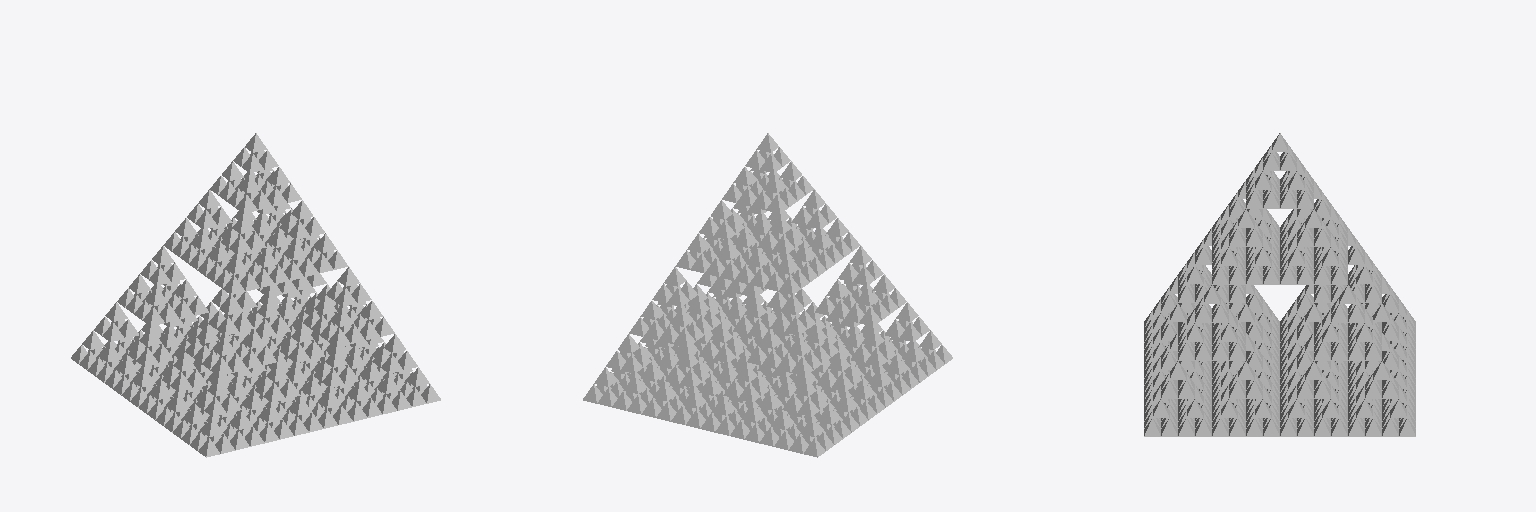
File: sierpinski_fractal.obj
The picture shows the model from 3 angles: view 1: azimuth 30°, elevation 25°; view 2: azimuth 150°, elevation 25°; view 3: azimuth 270°, elevation 25°; orthographic projection.
Visible parts, largest first — view 1: SierpinskiTetrahedron.030_SierpinskiTetrahedron.033, SierpinskiTetrahedron.029_SierpinskiTetrahedron.032, SierpinskiTetrahedron.062_SierpinskiTetrahedron.065, SierpinskiTetrahedron.001_SierpinskiTetrahedron.005, SierpinskiTetrahedron.005_SierpinskiTetrahedron.008, SierpinskiTetrahedron.008_SierpinskiTetrahedron.011, SierpinskiTetrahedron.045_SierpinskiTetrahedron.048, SierpinskiTetrahedron.051_SierpinskiTetrahedron.054, SierpinskiTetrahedron.010_SierpinskiTetrahedron.013, SierpinskiTetrahedron.033_SierpinskiTetrahedron.036, SierpinskiTetrahedron.049_SierpinskiTetrahedron.052, SierpinskiTetrahedron.058_SierpinskiTetrahedron.061 (+28 smaller); view 2: SierpinskiTetrahedron.027_SierpinskiTetrahedron.030, SierpinskiTetrahedron.028_SierpinskiTetrahedron.031, SierpinskiTetrahedron.061_SierpinskiTetrahedron.064, SierpinskiTetrahedron.001_SierpinskiTetrahedron.005, SierpinskiTetrahedron.002_SierpinskiTetrahedron.006, SierpinskiTetrahedron.007_SierpinskiTetrahedron.010, SierpinskiTetrahedron.034_SierpinskiTetrahedron.037, SierpinskiTetrahedron.050_SierpinskiTetrahedron.053, SierpinskiTetrahedron.009_SierpinskiTetrahedron.012, SierpinskiTetrahedron.044_SierpinskiTetrahedron.047, SierpinskiTetrahedron.052_SierpinskiTetrahedron.055, SierpinskiTetrahedron.057_SierpinskiTetrahedron.060 (+28 smaller); view 3: SierpinskiTetrahedron.054_SierpinskiTetrahedron.057, SierpinskiTetrahedron.055_SierpinskiTetrahedron.058, SierpinskiTetrahedron.063_SierpinskiTetrahedron.066, SierpinskiTetrahedron.064_SierpinskiTetrahedron.067, SierpinskiTetrahedron.065_SierpinskiTetrahedron.068, SierpinskiTetrahedron.066_SierpinskiTetrahedron.069, SierpinskiTetrahedron.067_SierpinskiTetrahedron.070, SierpinskiTetrahedron.068_SierpinskiTetrahedron.071, SierpinskiTetrahedron.069_SierpinskiTetrahedron.072, SierpinskiTetrahedron.070_SierpinskiTetrahedron.073, SierpinskiTetrahedron.014_SierpinskiTetrahedron.017, SierpinskiTetrahedron.017_SierpinskiTetrahedron.020 (+28 smaller).
Boxes of the visible parts, x1=… form: SierpinskiTetrahedron.030_SierpinskiTetrahedron.033: x1=208, y1=296, x2=253, y2=335; SierpinskiTetrahedron.029_SierpinskiTetrahedron.032: x1=326, y1=267, x2=371, y2=306; SierpinskiTetrahedron.062_SierpinskiTetrahedron.065: x1=162, y1=352, x2=207, y2=391; SierpinskiTetrahedron.001_SierpinskiTetrahedron.005: x1=233, y1=133, x2=278, y2=172; SierpinskiTetrahedron.005_SierpinskiTetrahedron.008: x1=227, y1=174, x2=272, y2=213; SierpinskiTetrahedron.008_SierpinskiTetrahedron.011: x1=279, y1=200, x2=324, y2=239; SierpinskiTetrahedron.045_SierpinskiTetrahedron.048: x1=134, y1=287, x2=179, y2=326; SierpinskiTetrahedron.051_SierpinskiTetrahedron.054: x1=94, y1=302, x2=138, y2=341; SierpinskiTetrahedron.010_SierpinskiTetrahedron.013: x1=187, y1=189, x2=232, y2=229; SierpinskiTetrahedron.033_SierpinskiTetrahedron.036: x1=202, y1=336, x2=247, y2=375; SierpinskiTetrahedron.049_SierpinskiTetrahedron.052: x1=255, y1=362, x2=300, y2=402; SierpinskiTetrahedron.058_SierpinskiTetrahedron.061: x1=280, y1=323, x2=324, y2=362; SierpinskiTetrahedron.027_SierpinskiTetrahedron.030: x1=770, y1=296, x2=815, y2=335; SierpinskiTetrahedron.028_SierpinskiTetrahedron.031: x1=652, y1=267, x2=697, y2=306; SierpinskiTetrahedron.061_SierpinskiTetrahedron.064: x1=816, y1=352, x2=861, y2=391; SierpinskiTetrahedron.001_SierpinskiTetrahedron.005: x1=745, y1=133, x2=790, y2=172; SierpinskiTetrahedron.002_SierpinskiTetrahedron.006: x1=751, y1=174, x2=796, y2=213; SierpinskiTetrahedron.007_SierpinskiTetrahedron.010: x1=699, y1=200, x2=744, y2=239; SierpinskiTetrahedron.034_SierpinskiTetrahedron.037: x1=844, y1=287, x2=889, y2=326; SierpinskiTetrahedron.050_SierpinskiTetrahedron.053: x1=885, y1=302, x2=929, y2=341; SierpinskiTetrahedron.009_SierpinskiTetrahedron.012: x1=791, y1=189, x2=836, y2=229; SierpinskiTetrahedron.044_SierpinskiTetrahedron.047: x1=776, y1=336, x2=821, y2=375; SierpinskiTetrahedron.052_SierpinskiTetrahedron.055: x1=723, y1=362, x2=768, y2=402; SierpinskiTetrahedron.057_SierpinskiTetrahedron.060: x1=699, y1=323, x2=743, y2=362; SierpinskiTetrahedron.054_SierpinskiTetrahedron.057: x1=1297, y1=361, x2=1330, y2=398; SierpinskiTetrahedron.055_SierpinskiTetrahedron.058: x1=1229, y1=361, x2=1262, y2=398; SierpinskiTetrahedron.063_SierpinskiTetrahedron.066: x1=1144, y1=399, x2=1177, y2=436; SierpinskiTetrahedron.064_SierpinskiTetrahedron.067: x1=1178, y1=399, x2=1211, y2=436; SierpinskiTetrahedron.065_SierpinskiTetrahedron.068: x1=1212, y1=399, x2=1245, y2=436; SierpinskiTetrahedron.066_SierpinskiTetrahedron.069: x1=1246, y1=399, x2=1279, y2=436; SierpinskiTetrahedron.067_SierpinskiTetrahedron.070: x1=1280, y1=399, x2=1313, y2=436; SierpinskiTetrahedron.068_SierpinskiTetrahedron.071: x1=1314, y1=399, x2=1347, y2=436; SierpinskiTetrahedron.069_SierpinskiTetrahedron.072: x1=1348, y1=399, x2=1381, y2=436; SierpinskiTetrahedron.070_SierpinskiTetrahedron.073: x1=1382, y1=399, x2=1415, y2=436; SierpinskiTetrahedron.014_SierpinskiTetrahedron.017: x1=1314, y1=247, x2=1347, y2=284; SierpinskiTetrahedron.017_SierpinskiTetrahedron.020: x1=1212, y1=247, x2=1245, y2=284.
Bounding box in the file's own units: 2 × 2 × 2.